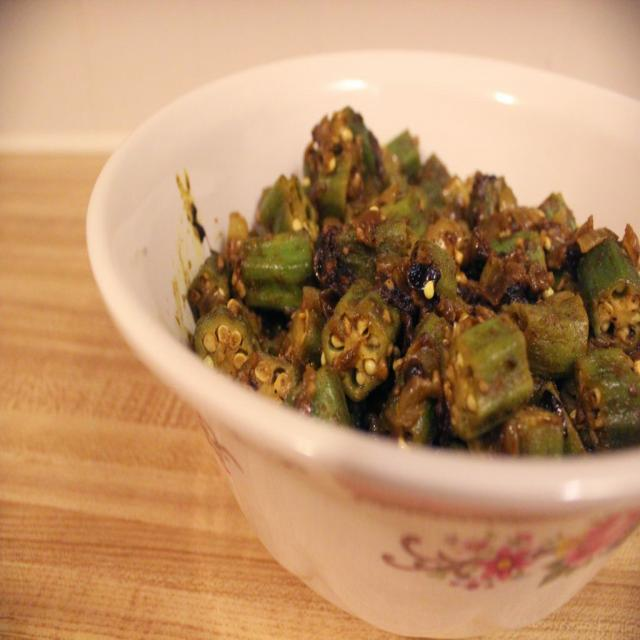BhindiMasala: (190, 103, 640, 455)
